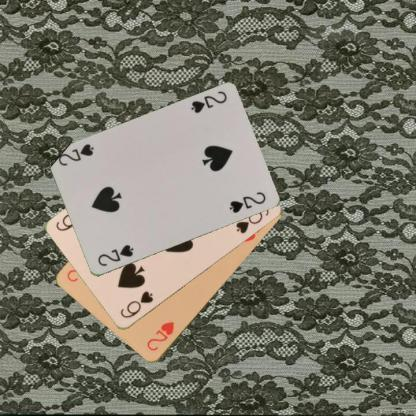2h: (145, 319, 176, 352)
2s: (188, 88, 228, 115), (95, 242, 134, 268)
6s: (117, 288, 155, 320)
